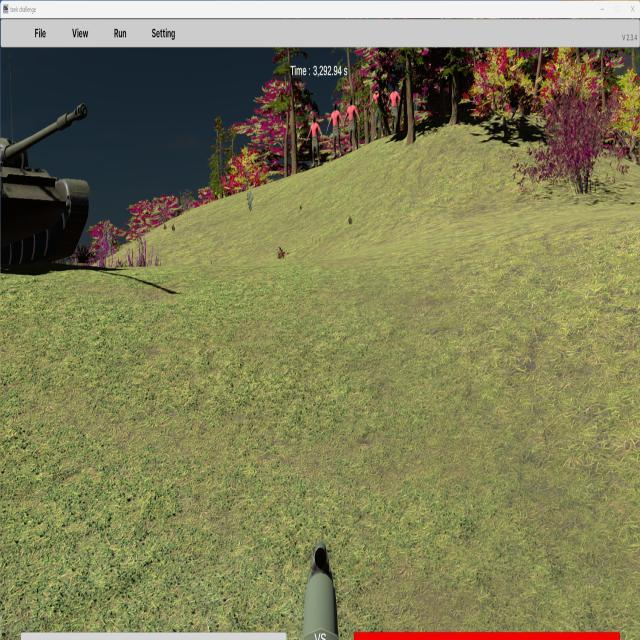Human: (327, 101, 344, 159), (345, 97, 361, 152), (387, 83, 402, 139), (307, 114, 322, 166), (371, 85, 385, 140)
Tank: (0, 100, 90, 273)
